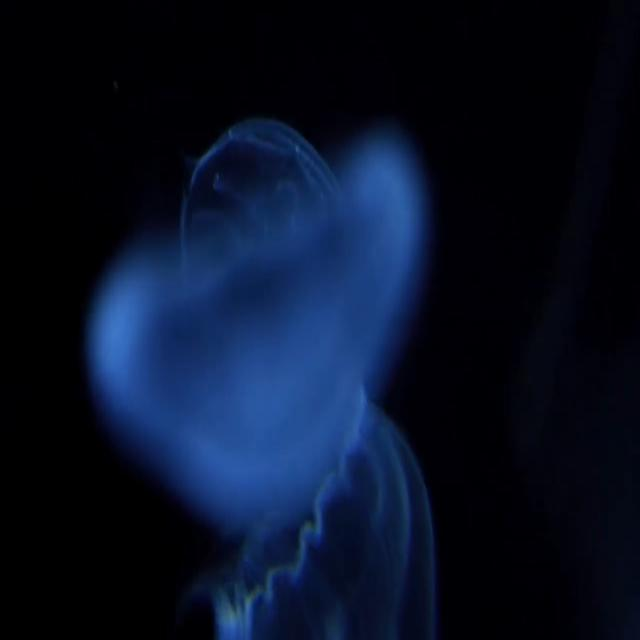Moon-jellyfish: (78, 115, 444, 639)
